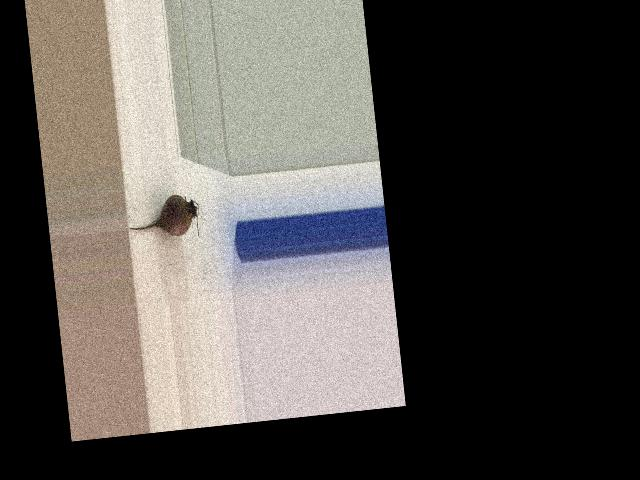beet: (126, 193, 202, 244)
